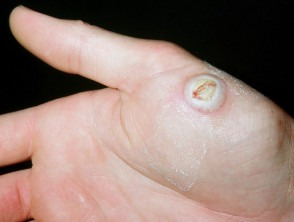Warts: (179, 68, 230, 115)
